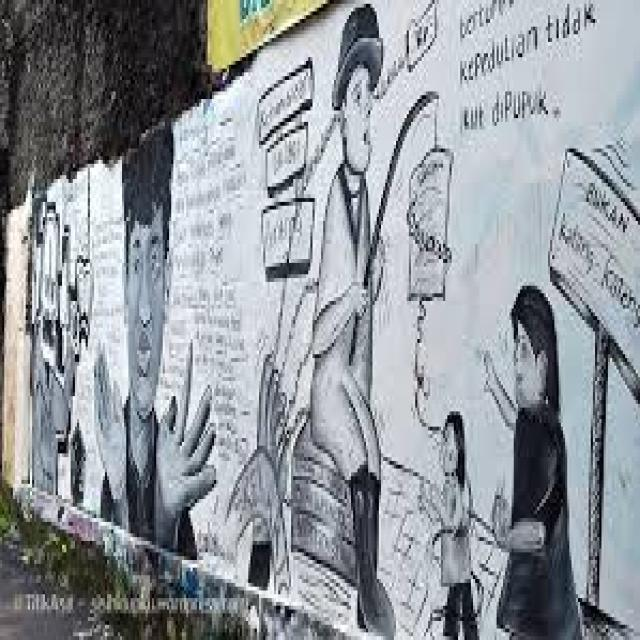-: (235, 5, 640, 640), (19, 126, 220, 554)
